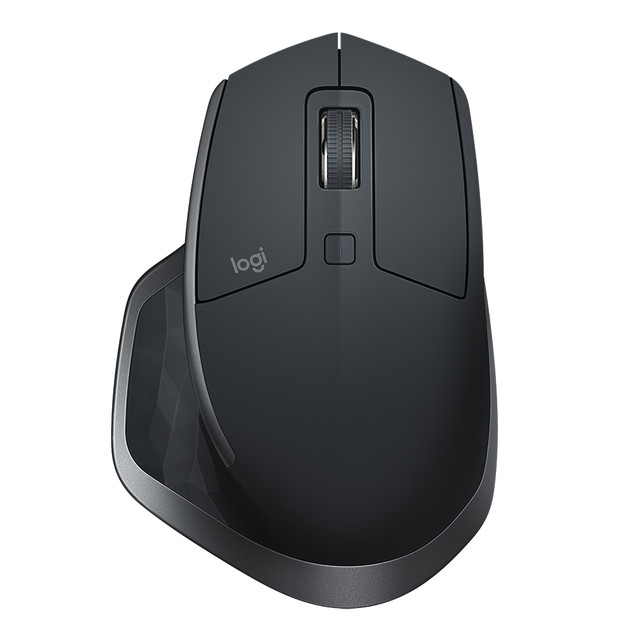Mouse: (102, 25, 513, 626)
